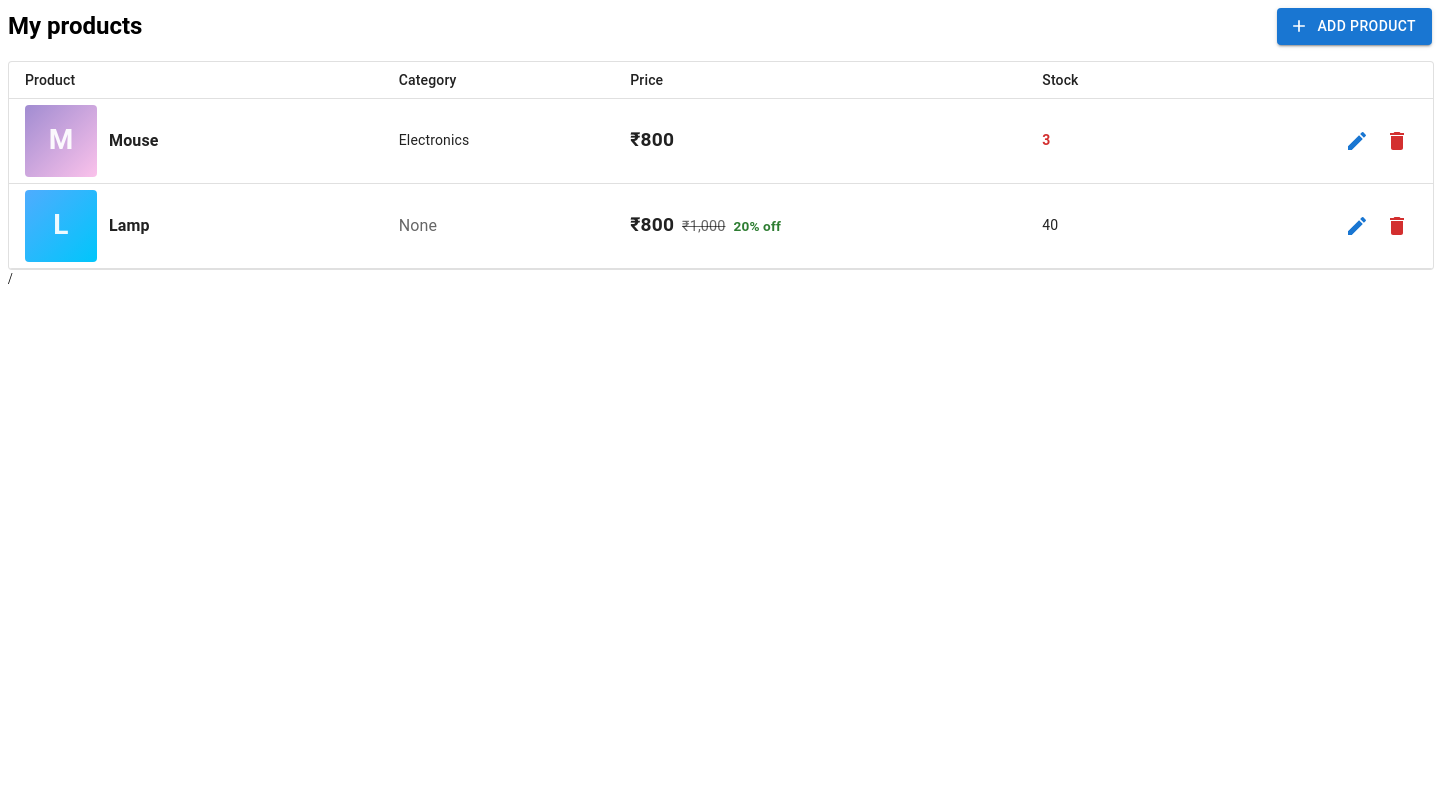
Test: ProductManager › opens the add dialog
expect the text "Mouse" is shown: met, box top-left (109, 128), bottom-right (159, 152)
Step 1. Click the button "Add product" → (1355, 26), box top-left (1277, 8), bottom-right (1432, 44)
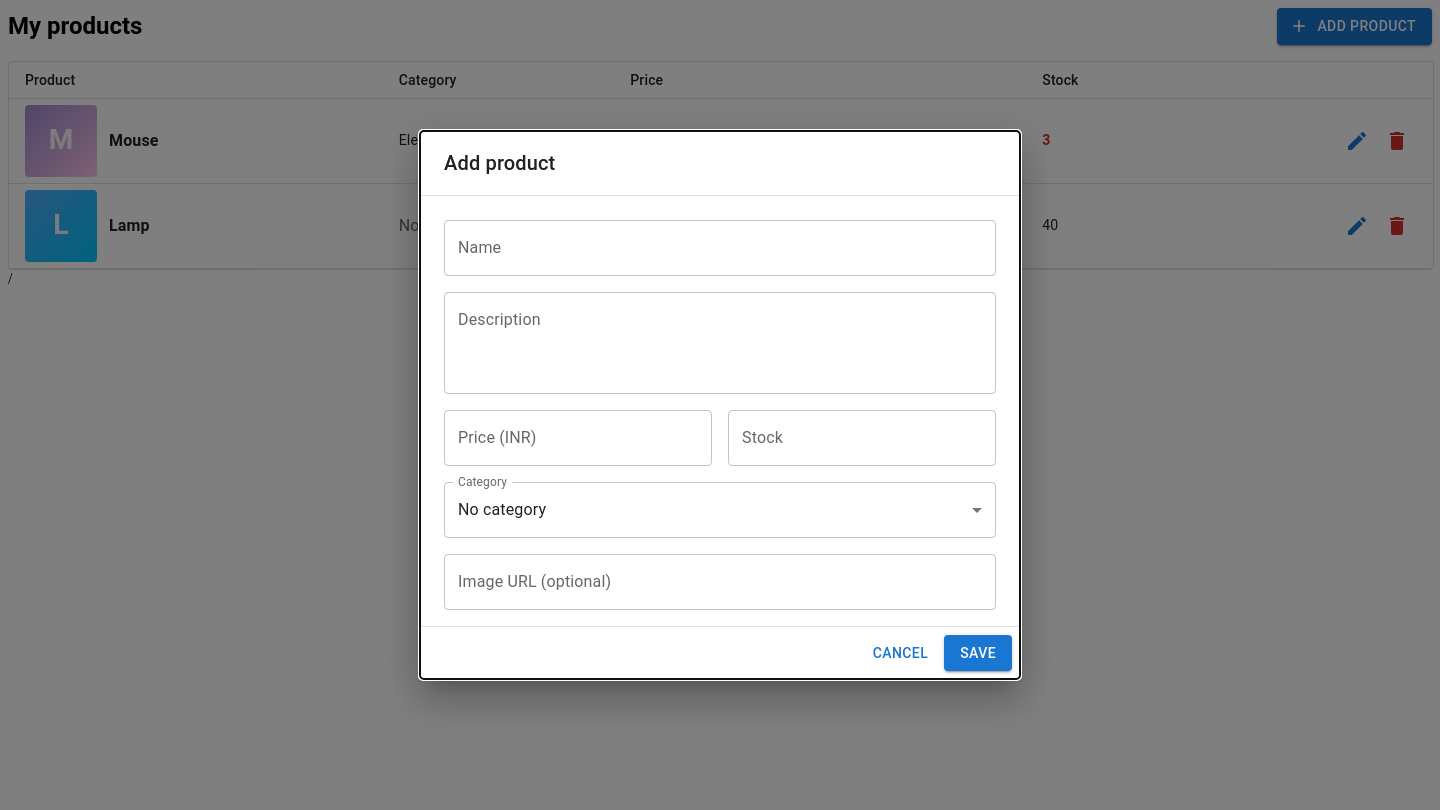
expect the dialog is shown: met, box top-left (420, 131), bottom-right (1020, 679)
expect the heading "Add product" is shown: met, box top-left (444, 151), bottom-right (555, 175)
